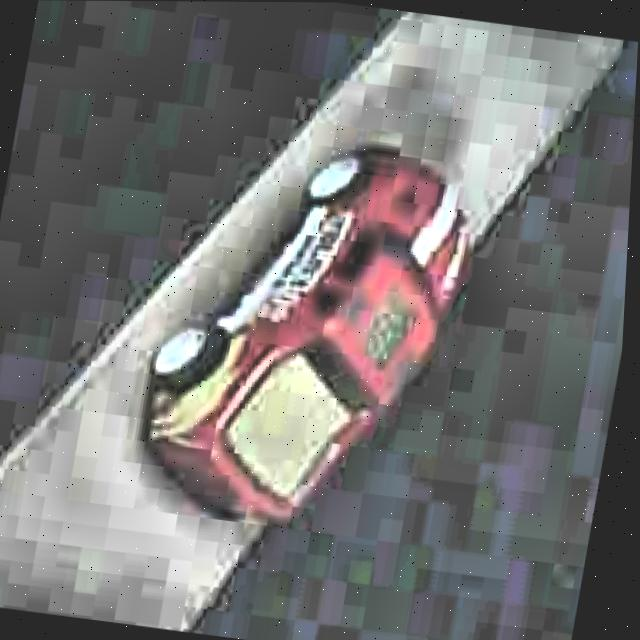car: (120, 120, 491, 546)
